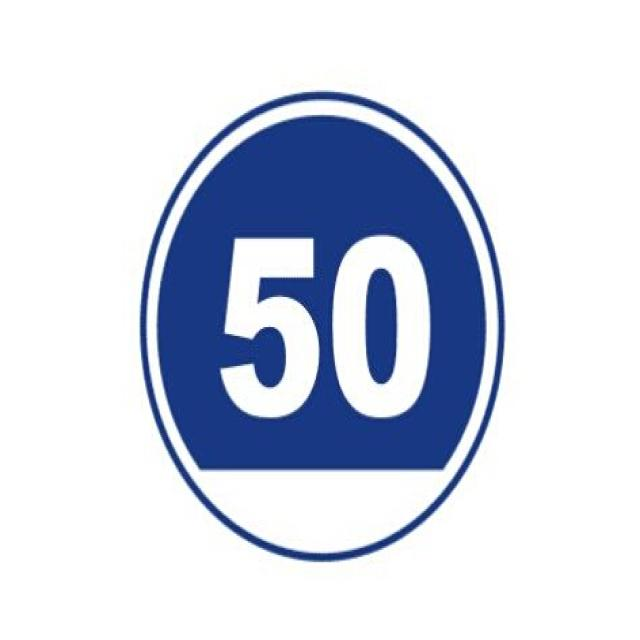speed limit 50: (135, 89, 507, 562)
